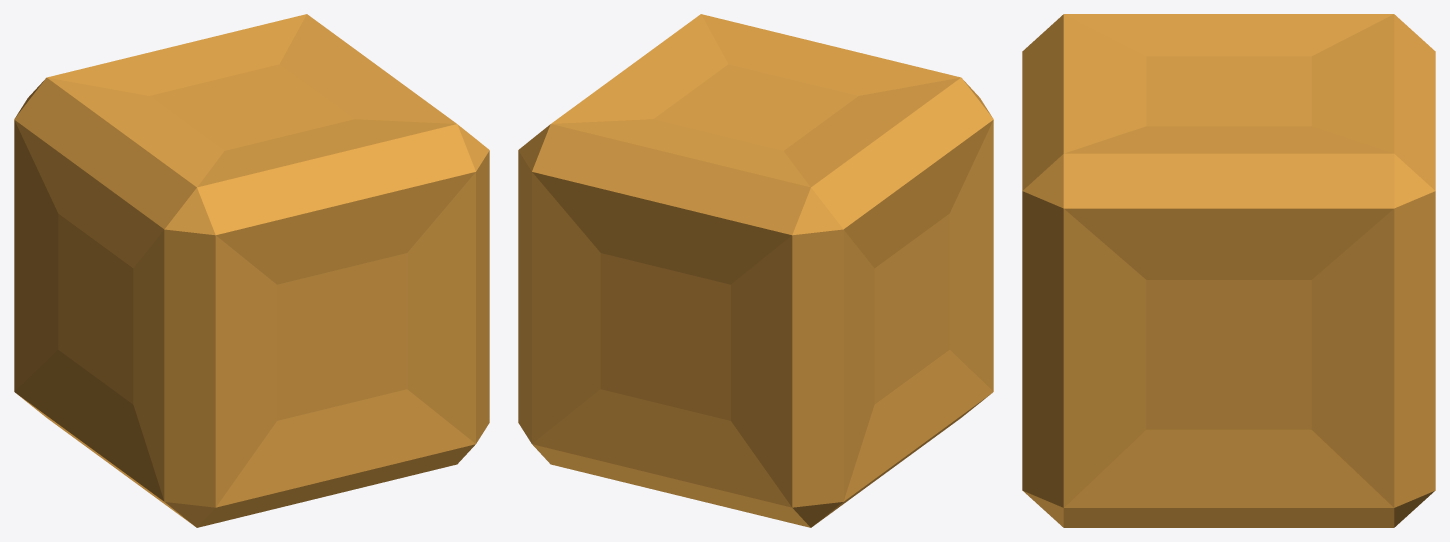
File: scifi-scifi-box.glb
3 renders of one model, left to right at view 1: azimuth 30°, elevation 25°; view 2: azimuth 150°, elevation 25°; view 3: azimuth 270°, elevation 25°, orthographic. The views are drawn at different scales.
Parts seen in each view (by area): view 1: scifi-box; view 2: scifi-box; view 3: scifi-box.
Boxes of the visible parts, x1,y1,x2,y2 form: scifi-box: (14,14,489,527); scifi-box: (518,14,993,527); scifi-box: (1022,14,1435,527).
Bounding box in the file's own units: 0.6 × 0.6 × 0.6.
